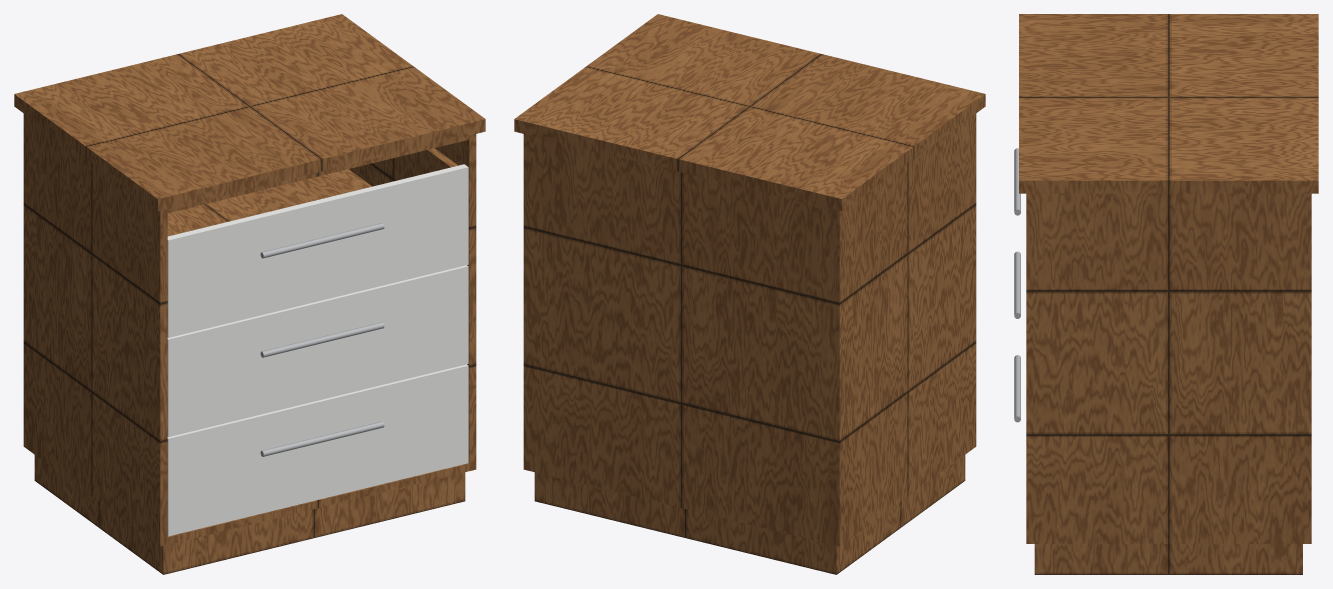
The model's file is Konyhai_fiokoselem_80.obj.
3 views of the same model, side by side, from view 1: azimuth 30°, elevation 25°; view 2: azimuth 150°, elevation 25°; view 3: azimuth 270°, elevation 25° (orthographic). The views are drawn at different scales.
Size of the model in its own units: 0.83 by 0.93 by 0.64.
3 materials, 1 textured.
